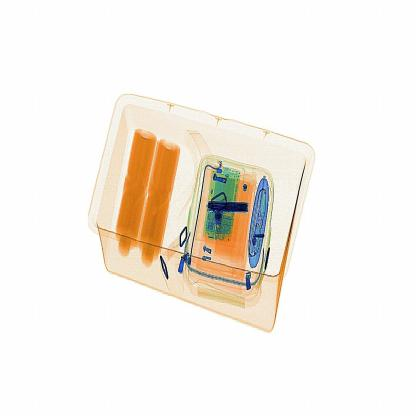scissors: (206, 190, 256, 224)
